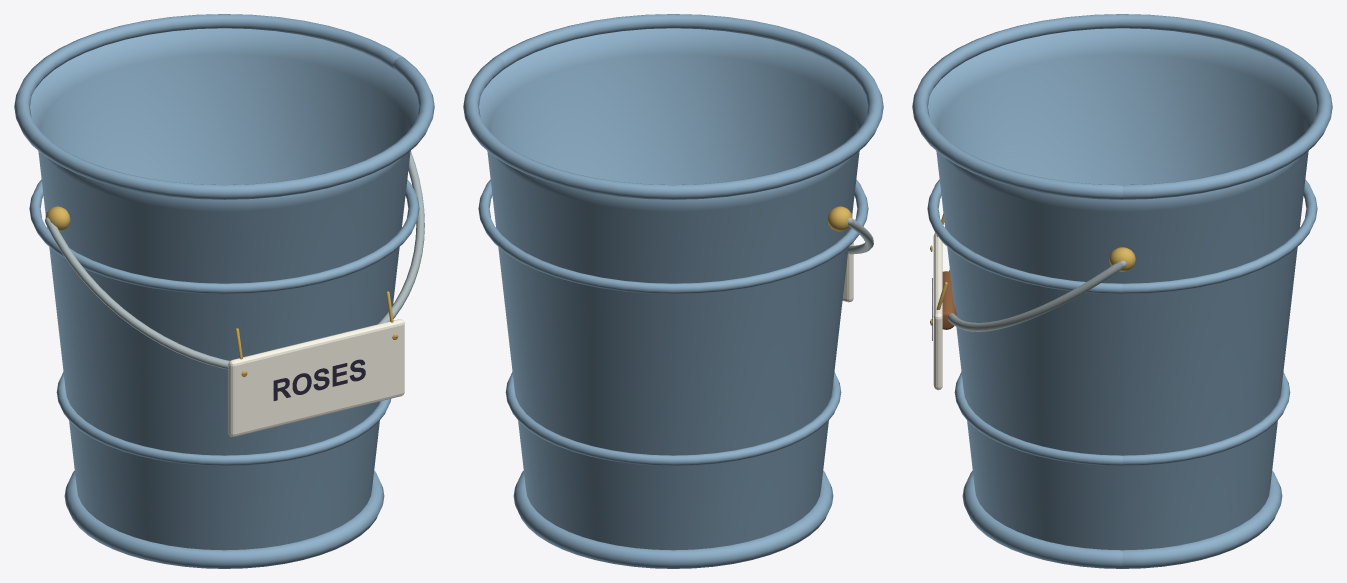
The model's file is bucket_roses.glb.
3 renders of one model, left to right at view 1: azimuth 30°, elevation 25°; view 2: azimuth 150°, elevation 25°; view 3: azimuth 270°, elevation 25°, orthographic.
Parts seen in each view (by area): view 1: Open_metal_reservoir, Rolled_cream_lip, Removable_price_plaque, Reinforced_base, Pressed_bucket_rib.001, Pressed_bucket_rib, Fold_down_wire_handle, Label_bold_species; view 2: Open_metal_reservoir, Rolled_cream_lip, Reinforced_base, Pressed_bucket_rib.001, Pressed_bucket_rib; view 3: Open_metal_reservoir, Rolled_cream_lip, Reinforced_base, Pressed_bucket_rib.001, Pressed_bucket_rib, Fold_down_wire_handle, Removable_price_plaque, Wood_handle_grip.
Part boxes in pixels (x1,y1,x2,y2): Open_metal_reservoir: (30,28,418,550); Rolled_cream_lip: (14,14,434,199); Removable_price_plaque: (228,319,404,436); Reinforced_base: (64,471,384,568); Pressed_bucket_rib.001: (29,179,419,294); Pressed_bucket_rib: (56,372,390,465); Fold_down_wire_handle: (45,151,424,369); Label_bold_species: (273,359,365,400); Open_metal_reservoir: (479,28,867,550); Rolled_cream_lip: (463,14,883,199); Reinforced_base: (513,471,833,568); Pressed_bucket_rib.001: (478,179,868,294); Pressed_bucket_rib: (505,372,841,465); Open_metal_reservoir: (928,28,1316,550); Rolled_cream_lip: (912,14,1332,199); Reinforced_base: (962,471,1282,568); Pressed_bucket_rib.001: (927,179,1317,294); Pressed_bucket_rib: (954,372,1290,465); Fold_down_wire_handle: (947,261,1126,331); Removable_price_plaque: (933,233,942,390); Wood_handle_grip: (942,271,956,329).
Size of the model in its own units: 0.374 by 0.407 by 0.374.
